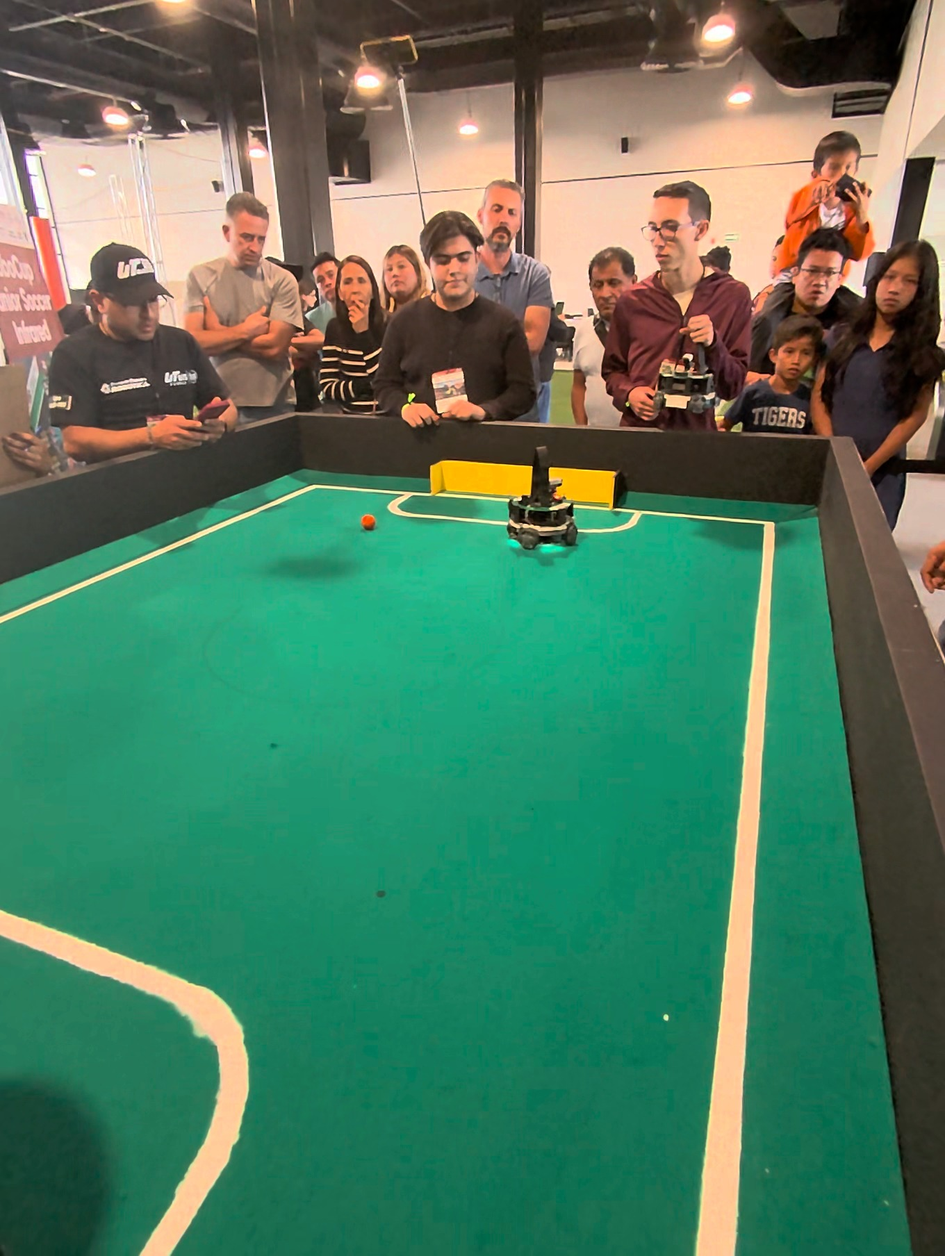Robot: (504, 445, 582, 559)
pelota: (362, 514, 376, 528)
